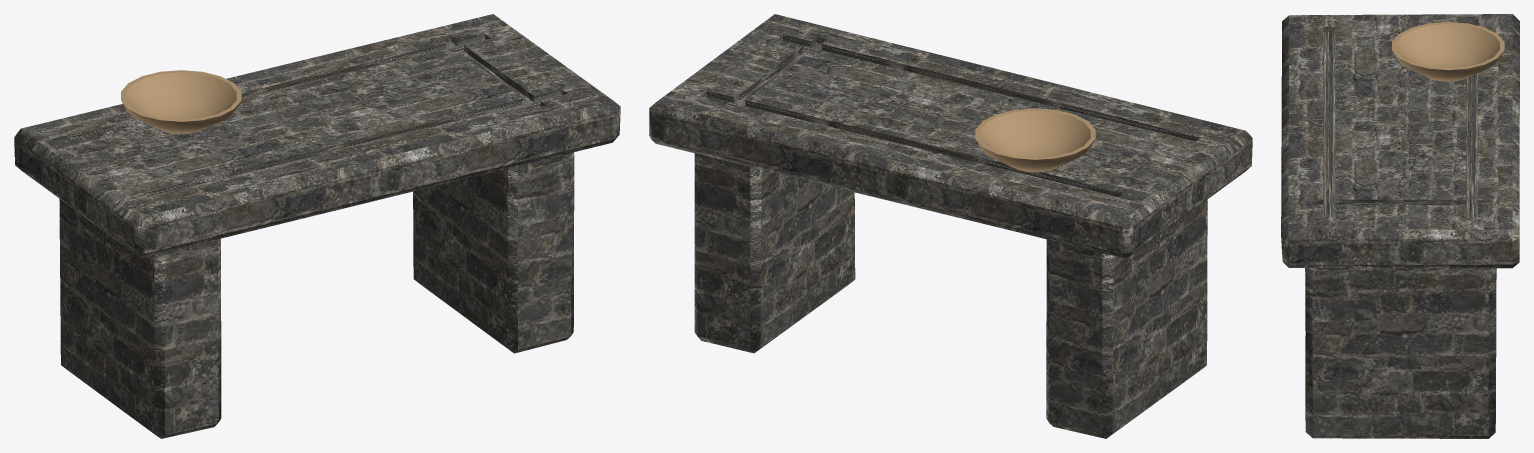
Rendered from ritual-table-v01.glb.
3 views of the same model, side by side, from view 1: azimuth 30°, elevation 25°; view 2: azimuth 150°, elevation 25°; view 3: azimuth 270°, elevation 25° (orthographic). The views are drawn at different scales.
Parts seen in each view (by area): view 1: ritual-table; view 2: ritual-table; view 3: ritual-table.
Boxes of the visible parts, left/top/right/bottom form: ritual-table: left=14, top=14, right=620, bottom=438; ritual-table: left=649, top=14, right=1252, bottom=438; ritual-table: left=1281, top=14, right=1519, bottom=438.
Bounding box in the file's own units: 2.21 × 1.16 × 1.
2 materials, 1 textured.
